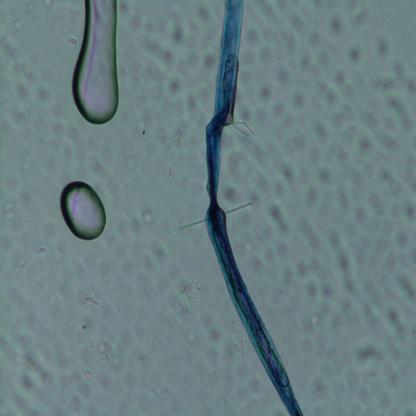Air bubble: (71, 0, 121, 126), (59, 180, 107, 242)
Background material: (273, 248, 334, 308), (13, 56, 54, 121), (222, 150, 266, 207), (15, 347, 53, 404), (272, 74, 307, 131), (104, 325, 133, 389), (267, 0, 299, 49), (382, 93, 416, 138), (370, 60, 416, 93), (246, 25, 272, 81), (326, 352, 358, 397), (246, 235, 288, 268), (357, 370, 392, 409), (141, 31, 176, 70), (310, 160, 339, 204), (322, 69, 353, 107), (334, 248, 358, 296), (119, 130, 146, 166), (355, 195, 387, 224), (172, 280, 199, 314), (194, 5, 216, 46), (141, 237, 166, 273), (106, 217, 129, 255), (379, 171, 407, 202), (160, 120, 184, 156), (85, 139, 111, 172), (48, 123, 74, 156), (342, 0, 371, 28), (267, 204, 292, 236), (21, 304, 43, 340), (304, 306, 327, 338), (395, 271, 416, 305), (117, 2, 144, 28), (203, 314, 218, 360), (388, 304, 408, 337), (370, 35, 394, 60), (59, 276, 80, 304), (230, 119, 257, 140), (355, 342, 386, 360), (354, 133, 377, 157), (177, 94, 201, 116), (305, 185, 322, 216), (68, 396, 94, 416), (345, 41, 365, 66), (310, 372, 326, 402), (145, 104, 162, 132), (0, 36, 18, 62), (168, 23, 186, 48), (44, 286, 60, 314), (107, 269, 129, 289), (328, 13, 344, 37), (231, 335, 247, 359), (281, 160, 296, 185), (76, 320, 93, 342), (2, 201, 18, 222), (308, 28, 322, 52), (202, 51, 218, 72), (400, 201, 416, 221), (80, 384, 98, 401), (166, 76, 182, 95), (80, 290, 100, 305), (16, 254, 31, 274), (260, 80, 274, 101), (140, 208, 154, 226), (52, 242, 64, 262), (165, 162, 177, 181), (312, 11, 327, 26), (22, 1, 37, 16), (81, 364, 94, 381), (296, 54, 312, 66), (186, 331, 198, 344), (35, 243, 46, 257), (40, 0, 52, 12), (0, 234, 10, 248), (100, 352, 110, 364), (67, 36, 78, 46), (149, 383, 158, 395), (411, 322, 416, 338), (90, 341, 98, 351), (406, 406, 414, 416)
Cotton: (202, 1, 303, 415)
Glass filter fibre: (167, 216, 204, 234), (225, 201, 253, 214)
